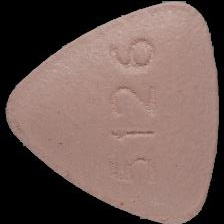54868-5079: (0, 0, 224, 224)
